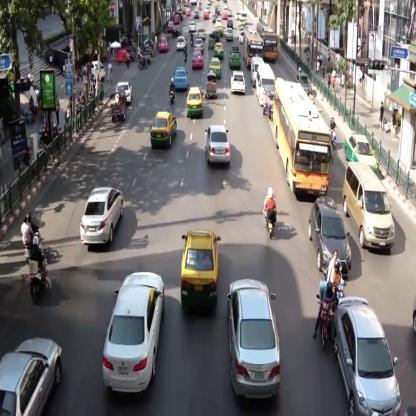bus: (274, 80, 330, 194), (257, 22, 278, 60), (244, 31, 262, 68)
car: (100, 273, 167, 392), (336, 296, 402, 415), (229, 281, 281, 398), (0, 336, 62, 415), (310, 196, 352, 276), (181, 232, 221, 304), (80, 186, 124, 242), (345, 135, 379, 173), (150, 111, 176, 148), (206, 126, 232, 163), (186, 86, 204, 114), (83, 62, 105, 82), (115, 81, 133, 103), (231, 70, 246, 96), (192, 49, 204, 70), (229, 45, 240, 67), (210, 56, 221, 76), (158, 36, 168, 53), (214, 42, 223, 56), (177, 38, 186, 50)
motocycle: (317, 280, 335, 349), (29, 237, 48, 300), (22, 210, 39, 259), (329, 250, 343, 308), (264, 190, 278, 238), (331, 117, 339, 152), (169, 76, 176, 104), (183, 42, 188, 68), (189, 28, 194, 46)
person: (378, 97, 384, 131), (331, 69, 337, 90), (341, 73, 345, 96), (316, 60, 320, 78)
van: (343, 163, 395, 249), (257, 67, 275, 103), (250, 58, 264, 82)
